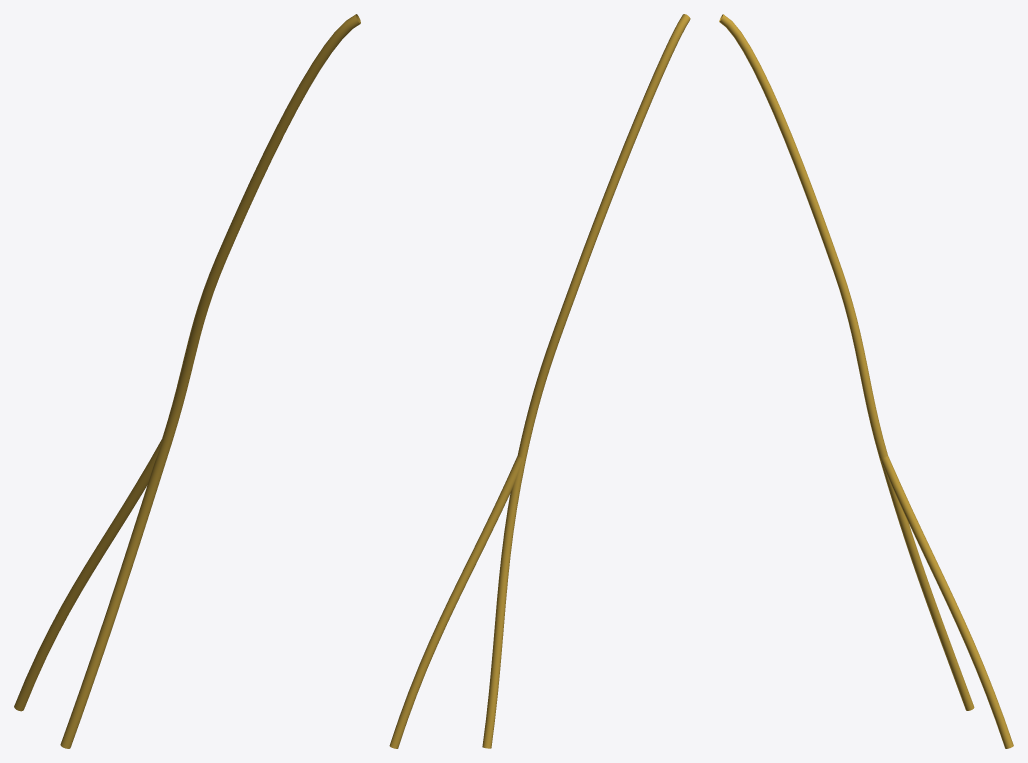
3 renders of one model, left to right at view 1: azimuth 90°, elevation 25°; view 2: azimuth 150°, elevation 25°; view 3: azimuth 270°, elevation 25°, orthographic. The views are drawn at different scales.
Parts seen in each view (by area): view 1: 左侧足底内侧神经; view 2: 左侧足底内侧神经; view 3: 左侧足底内侧神经.
Boxes of the visible parts, x1,y1,x2,y2 form: 左侧足底内侧神经: (14, 14, 360, 748); 左侧足底内侧神经: (389, 14, 690, 748); 左侧足底内侧神经: (719, 14, 1013, 748).
Size of the model in its own units: 0.0289 by 0.1179 by 0.0475.
